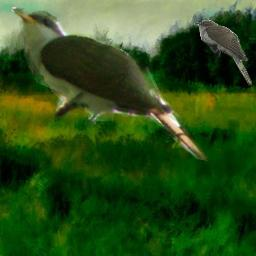Cuckoo: (8, 7, 211, 161), (194, 20, 252, 87)
